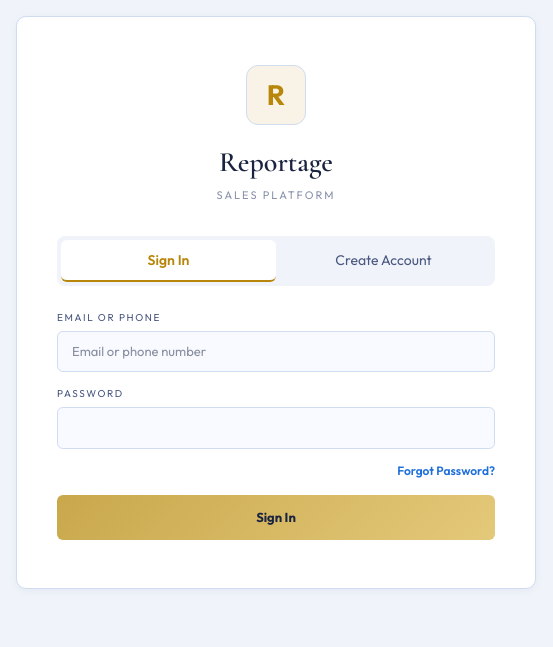
it: Authentication Module Tests › Login Component › validates fields for Sign In
Step 1. Click the button "Sign In" → (276, 517), box [57,494,495,540]
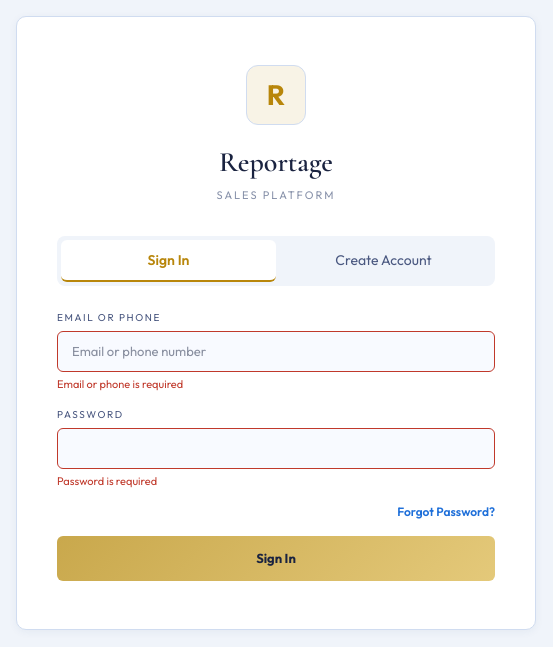
Expected: the text "Email or phone is required" is shown, [57,377,183,391]
Expected: the text "Password is required" is shown, [57,474,157,488]
